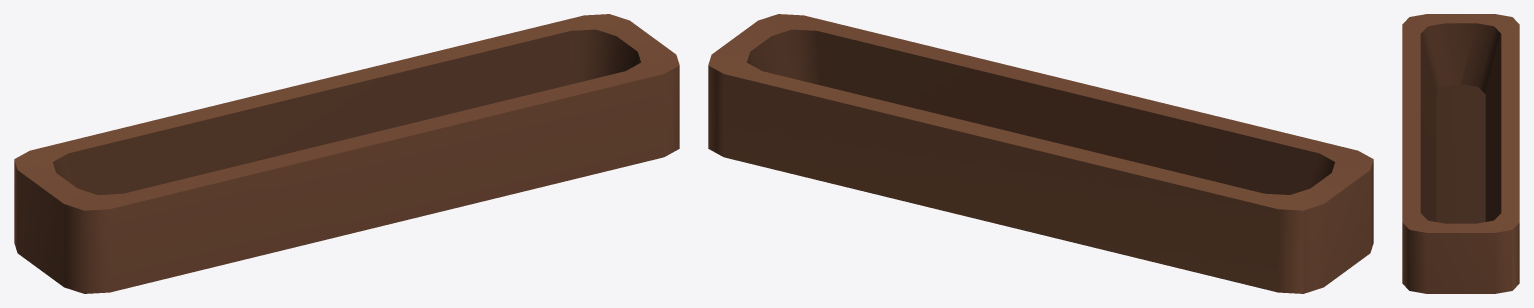
File: wooden_set_grnd.fbx
The picture shows the model from 3 angles, left to right: view 1: azimuth 30°, elevation 25°; view 2: azimuth 150°, elevation 25°; view 3: azimuth 270°, elevation 25°; orthographic projection. The views are drawn at different scales.
Visible parts, largest first — view 1: wooden_set_grnd; view 2: wooden_set_grnd; view 3: wooden_set_grnd.
Part boxes in pixels (x1,y1,x2,y2): wooden_set_grnd: (14,14,679,293); wooden_set_grnd: (708,14,1373,293); wooden_set_grnd: (1402,14,1519,293).
Size of the model in its own units: 13.6 by 1.77 by 3.08.
